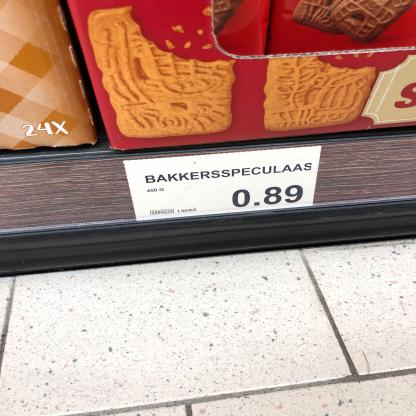prtg: (124, 147, 323, 222)
